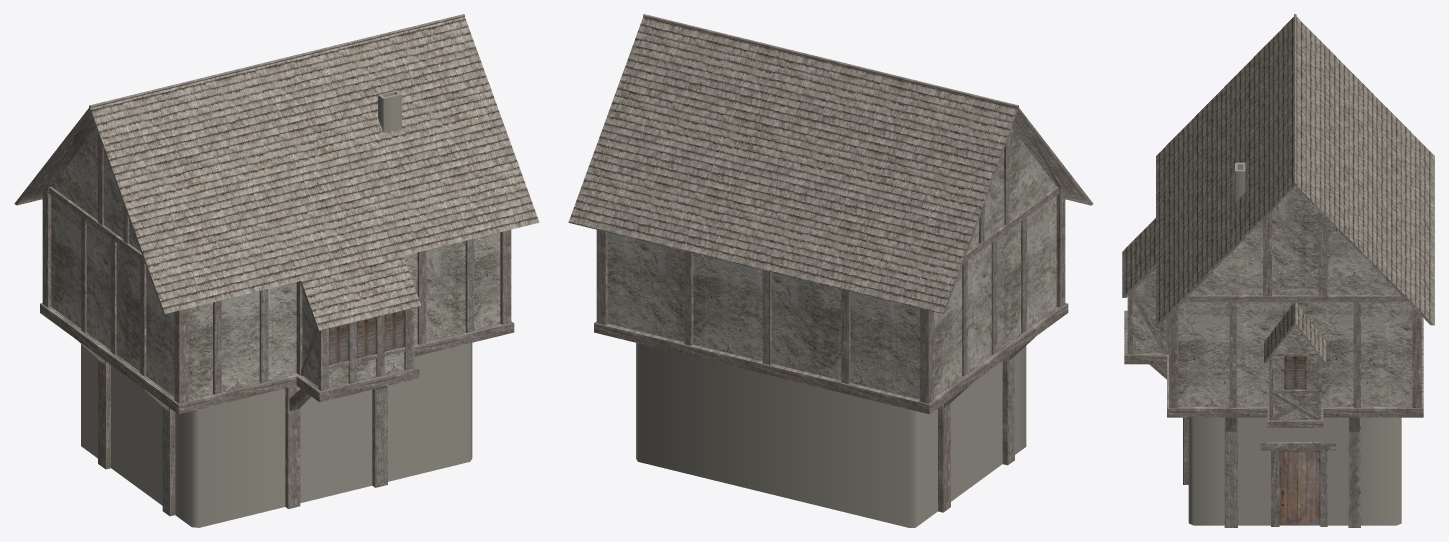
The model's file is House_4.fbx.
3 views of the same model, side by side, from view 1: azimuth 30°, elevation 25°; view 2: azimuth 150°, elevation 25°; view 3: azimuth 270°, elevation 25° (orthographic). The views are drawn at different scales.
Parts seen in each view (by area): view 1: Model; view 2: Model; view 3: Model.
Part boxes in pixels (left/top/right/bottom): Model: left=14, top=14, right=539, bottom=527; Model: left=568, top=14, right=1093, bottom=527; Model: left=1122, top=14, right=1434, bottom=527.
Size of the model in its own units: 8.95 by 8.46 by 6.59.
